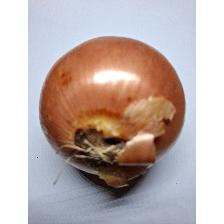Zwiebel: (36, 34, 188, 192)
